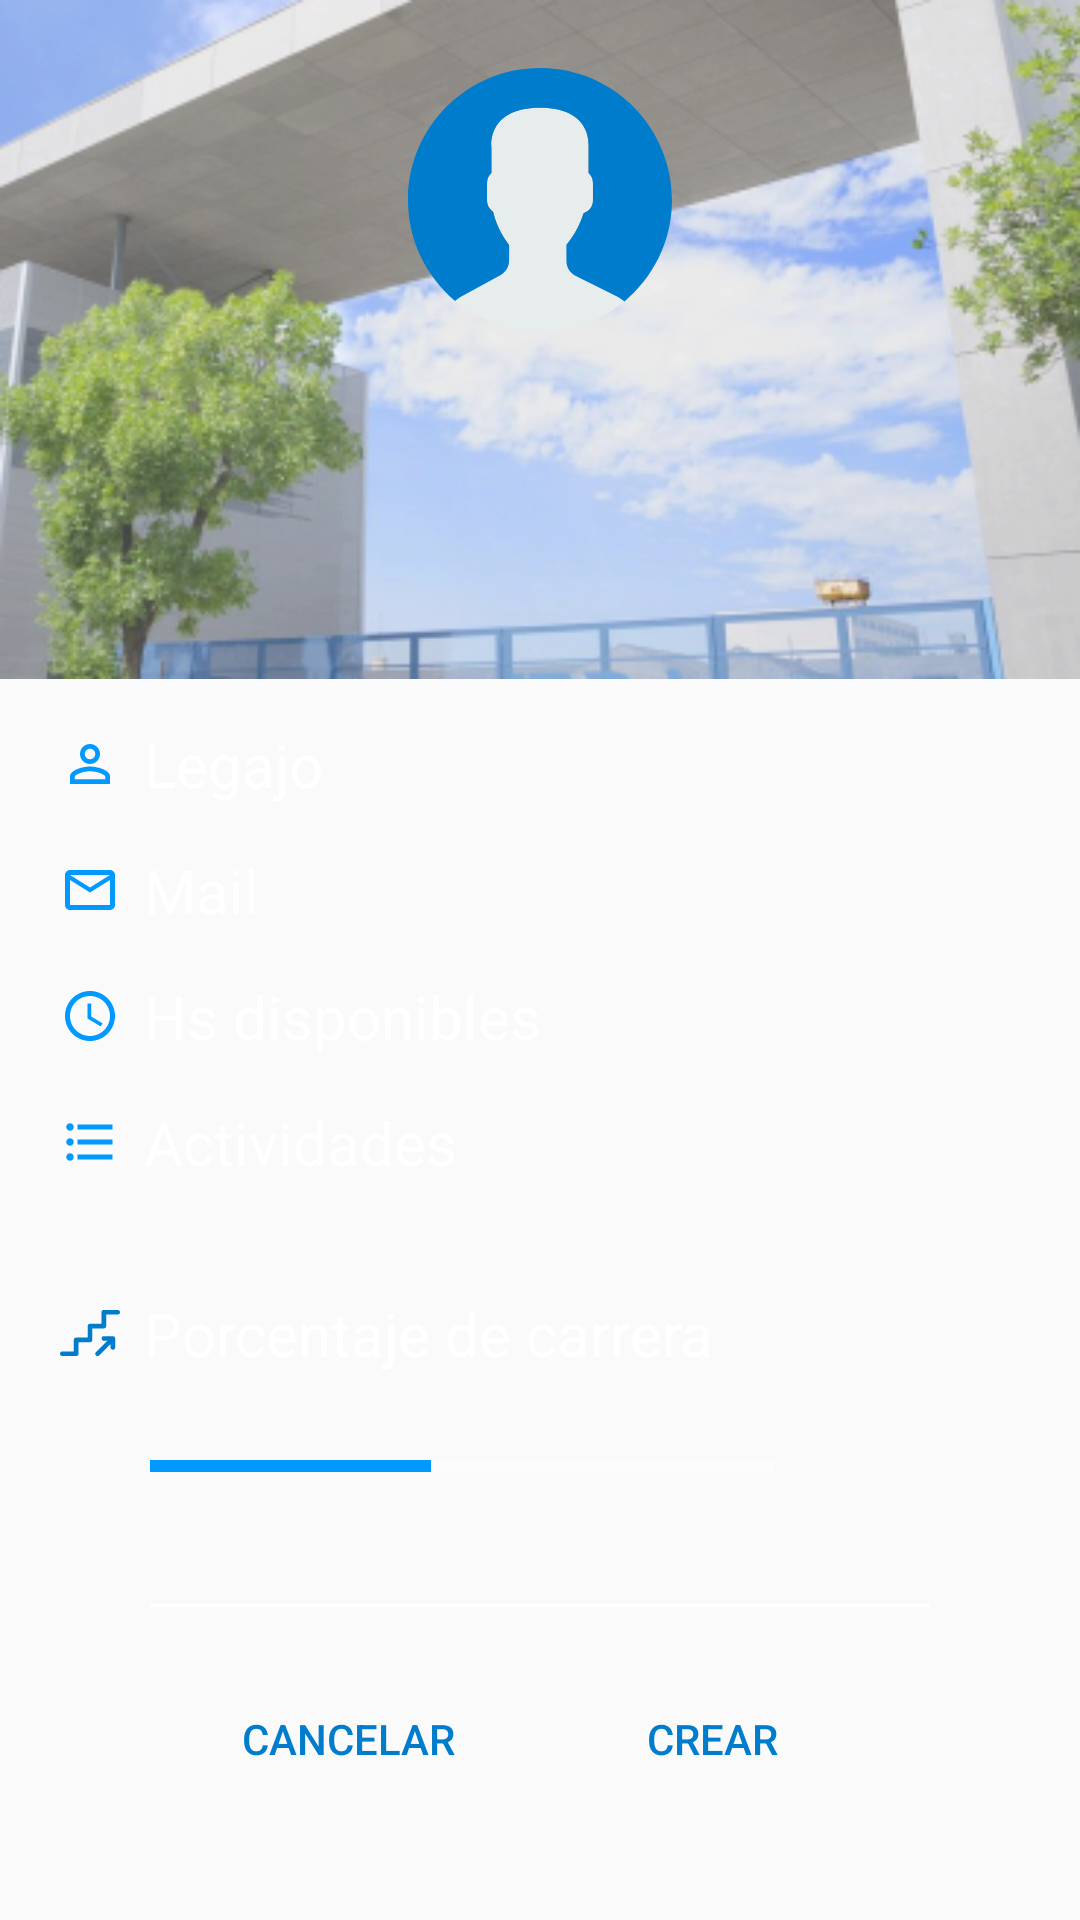

Screen size 1080w x 1920h. Icon name, then its center in pixels as (x=x, y=y):
Imagen defecto de usuario: (x=540, y=199)
